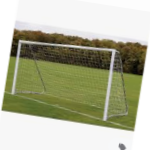goals: (13, 39, 130, 120)
